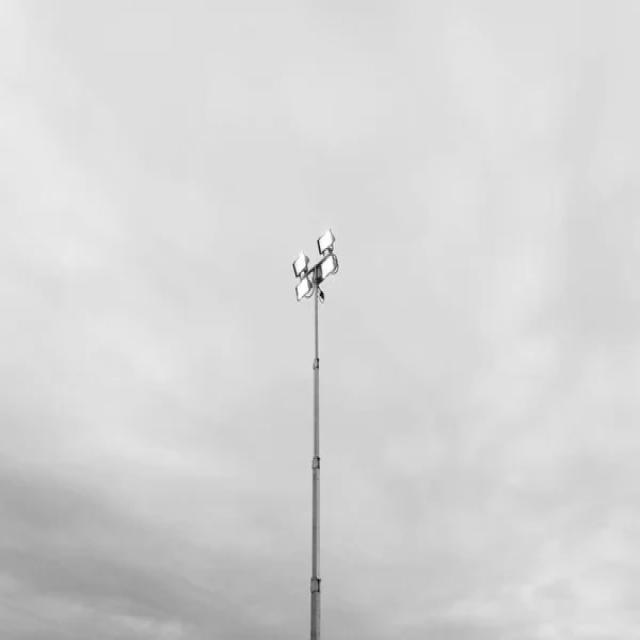Pole: (294, 230, 339, 640)
